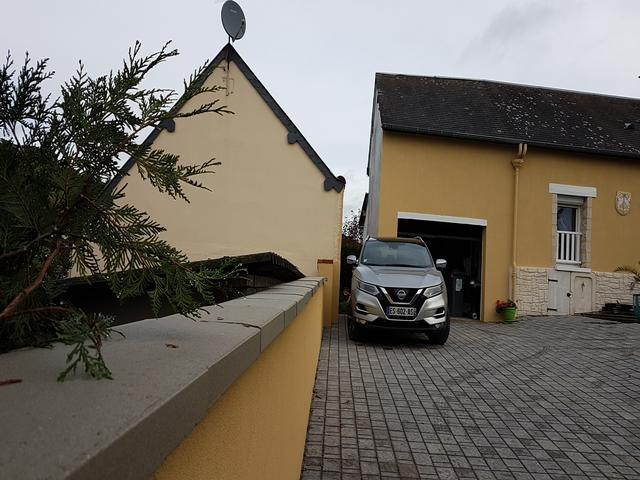Quashquai: (376, 299, 422, 324)
